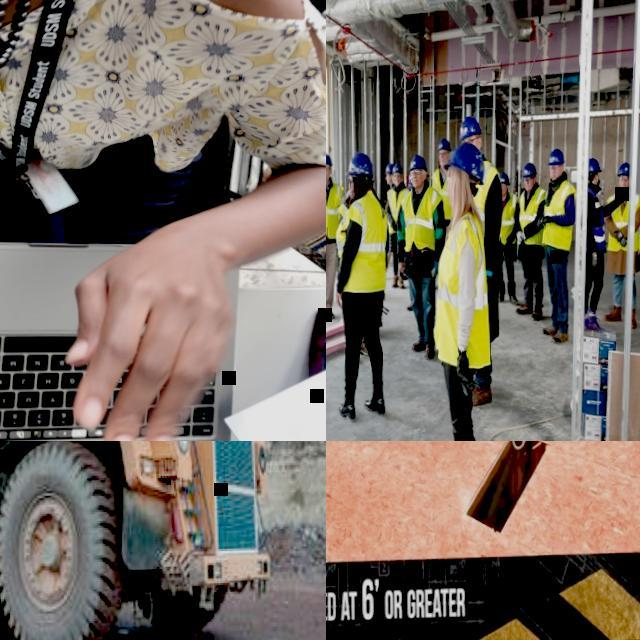helmet: (443, 142, 485, 188), (344, 151, 374, 177), (458, 116, 482, 142), (408, 154, 428, 173), (546, 149, 566, 167), (521, 162, 537, 178), (438, 138, 452, 154), (588, 159, 602, 174), (617, 163, 630, 178), (499, 172, 511, 188), (391, 163, 402, 176), (384, 163, 394, 176), (326, 152, 332, 168), (408, 173, 412, 184), (516, 170, 522, 176)
vest: (431, 210, 491, 370), (335, 190, 389, 294), (400, 184, 443, 252), (540, 182, 578, 254), (470, 158, 500, 243), (605, 192, 640, 252), (517, 186, 547, 248), (586, 188, 607, 255), (386, 187, 411, 233), (498, 194, 520, 246), (430, 168, 452, 220), (326, 179, 344, 239), (386, 188, 392, 224), (338, 203, 348, 218), (514, 178, 522, 196)
